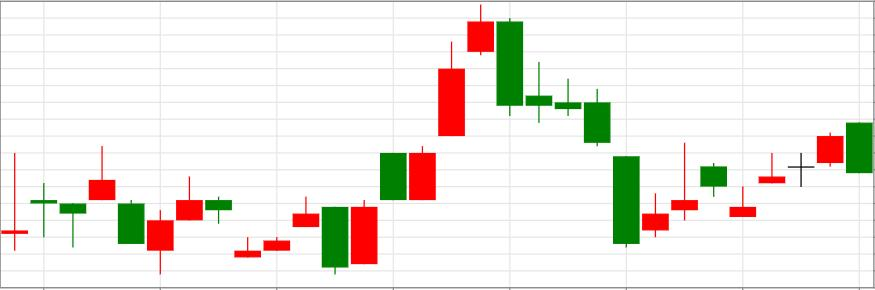bearish_engulfing_fall: (729, 123, 873, 217)
